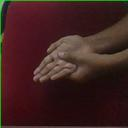hand: (32, 34, 93, 81), (57, 52, 104, 81)
